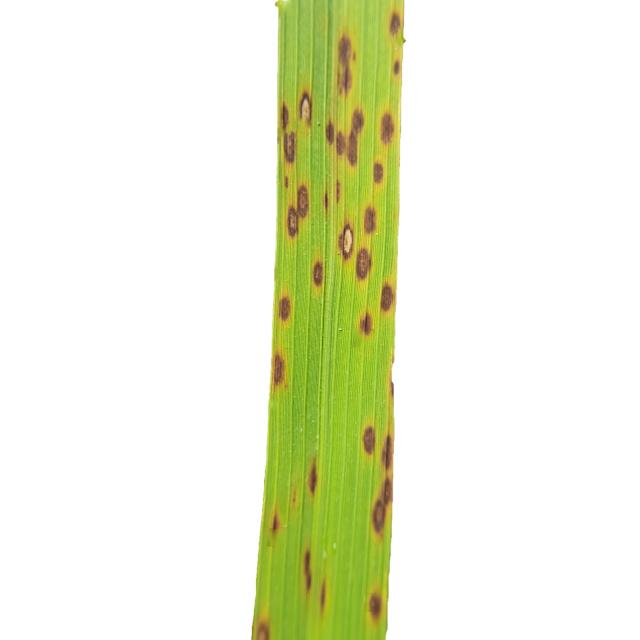Brown spot: (243, 0, 420, 640)
